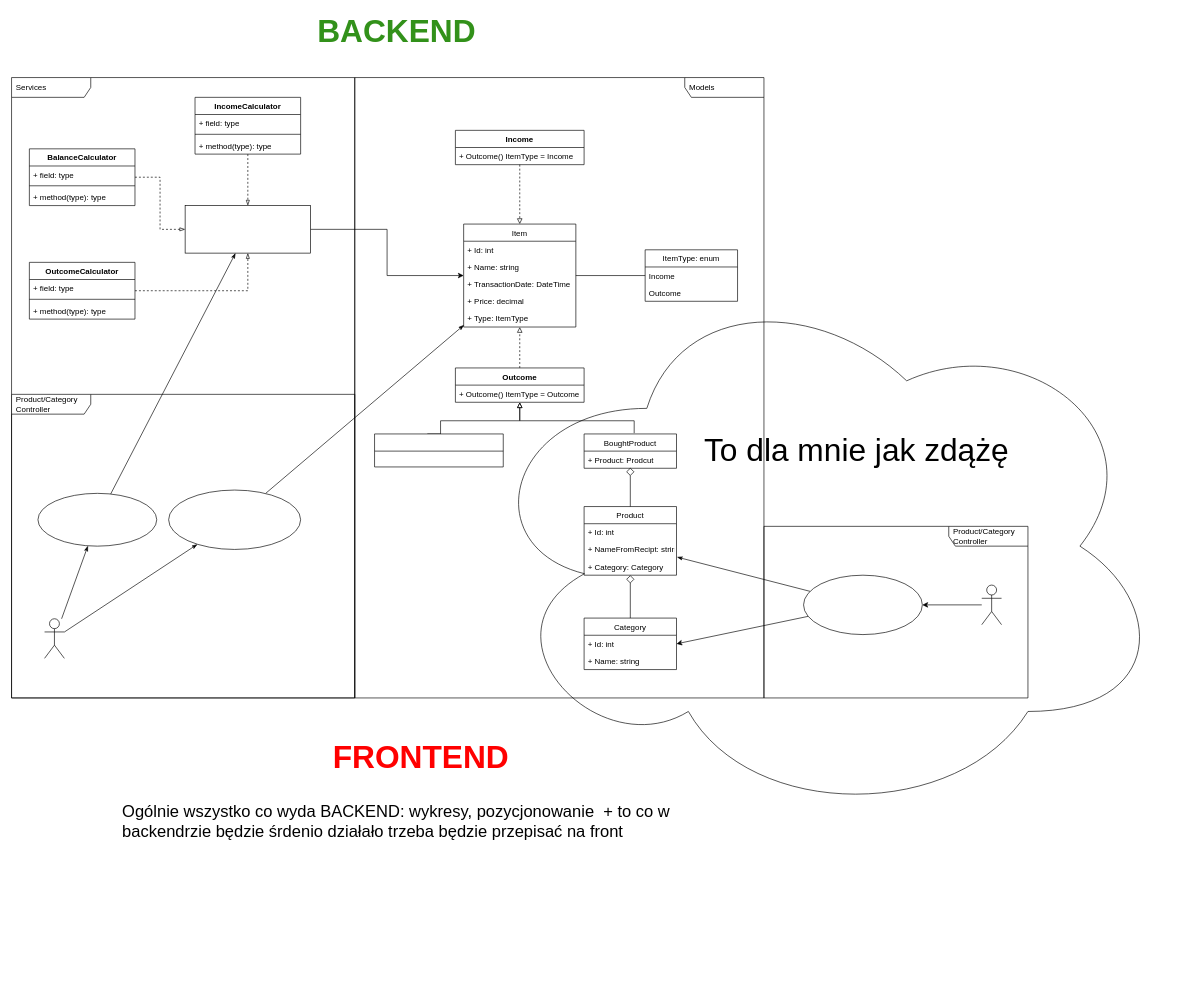
Image size: 1178x993. Some labels were removed from this diagram. Each missing label, with the centre of its shape:
"<<Interface>> ICalculator + Calculate(List<Item>): decimal" goes at (x=247, y=229).
"Admin" goes at (x=991, y=604).
"Dodawanie/usuwanie/edytowanie przychodów/wydatków" goes at (x=234, y=519).
"Operacje CRUD dla produktów i kategorii. Jeżeli użytkownik ma role admina" goes at (x=862, y=605).
"Pobieranie balansu sumy przychodów/wydatków" goes at (x=97, y=519).
"SingleOutcome" goes at (x=438, y=450).
"User" goes at (x=54, y=638).
